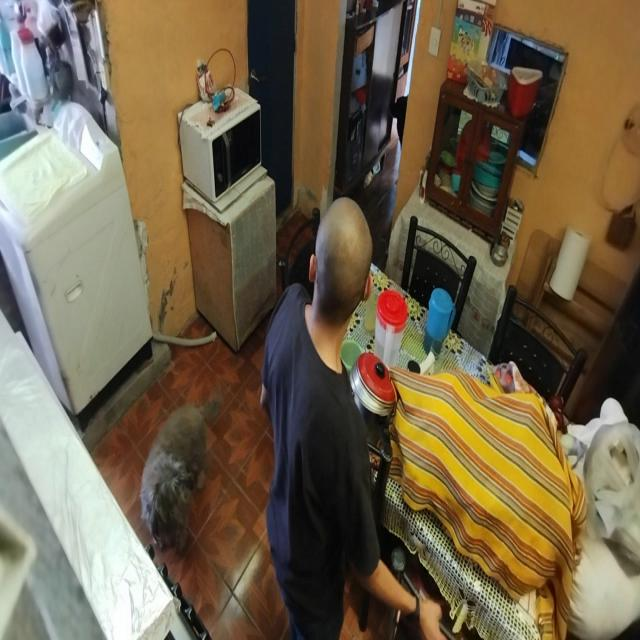adult: (257, 186, 445, 640)
